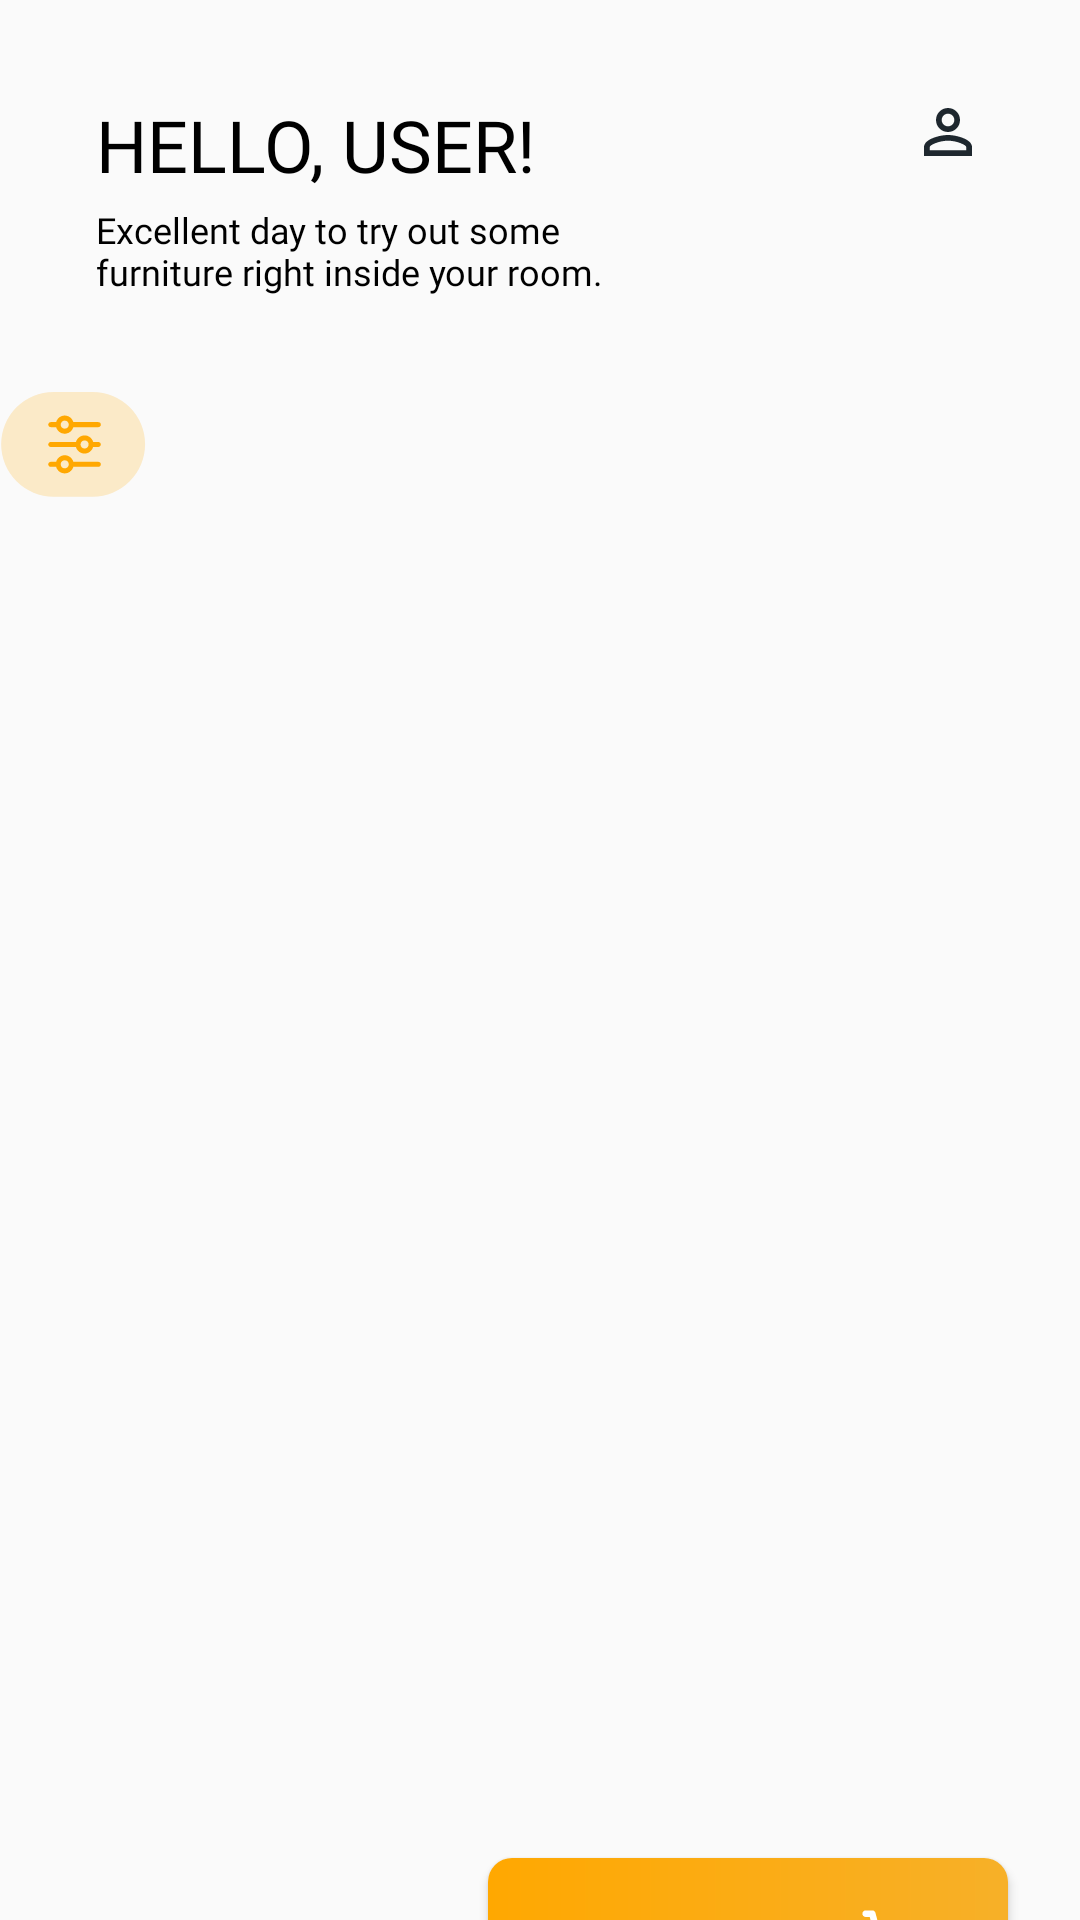

Where to tap for icons on this 1080 x 1920 app screen, as (x=x, y=y):
filter: (x=73, y=444)
person: (x=948, y=132)
